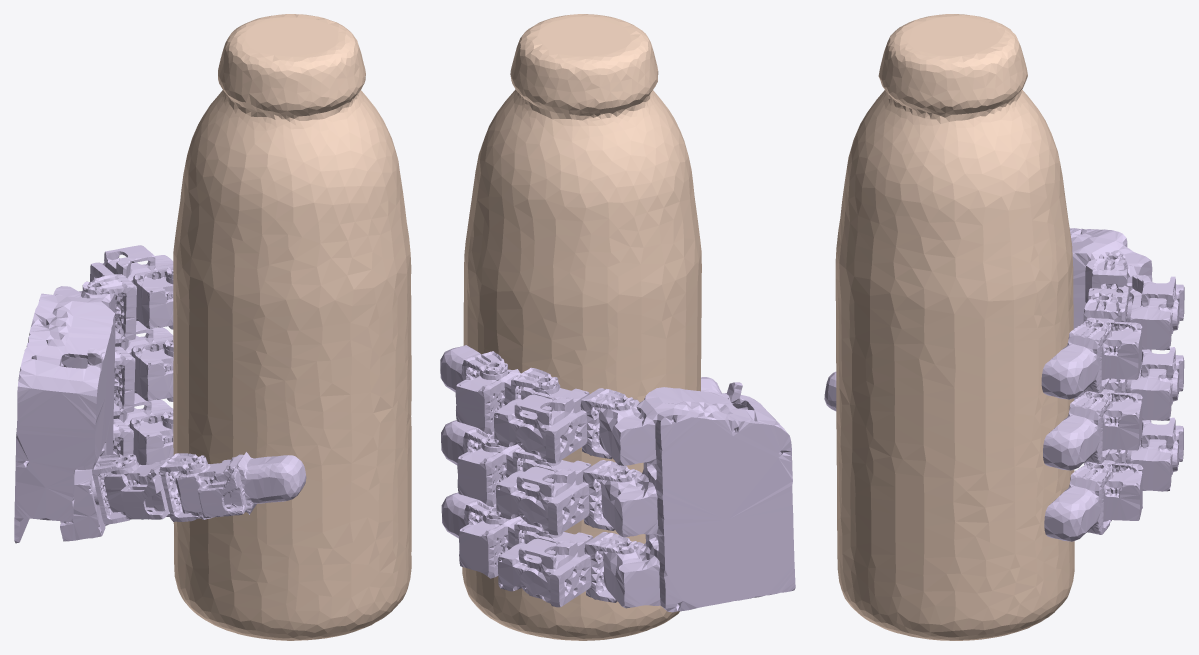
File: d9010fc7f7351e-closed.glb
3 views of the same model, side by side, from view 1: azimuth 30°, elevation 25°; view 2: azimuth 150°, elevation 25°; view 3: azimuth 270°, elevation 25° (orthographic).
Parts seen in each view (by area): view 1: world, LEAP_hand; view 2: world, LEAP_hand; view 3: world, LEAP_hand.
Part boxes in pixels (box(x1,y1,x2,y2)): world: box(173, 14, 411, 640); LEAP_hand: box(14, 245, 306, 543); world: box(462, 14, 701, 640); LEAP_hand: box(440, 345, 795, 612); world: box(835, 14, 1074, 640); LEAP_hand: box(824, 228, 1184, 541).
Size of the model in its own units: 0.2318 by 0.3587 by 0.207.
